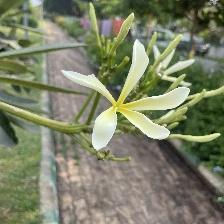champaka: (61, 41, 192, 154)
